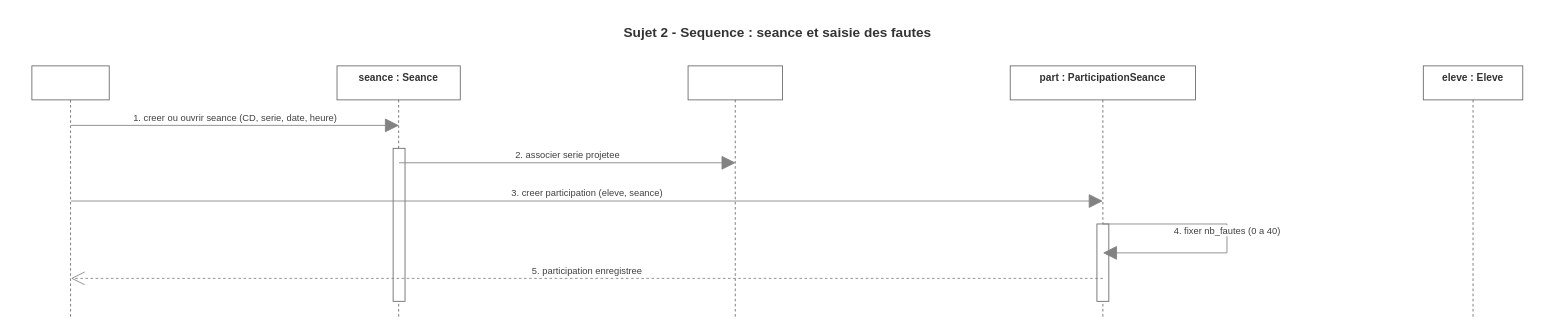
Some shapes in this 1554 by 333 pixel diagram are drawn without their labels. The shapes that lost their labels are listed below. From the top down, each one's box as (x1, y1, x2, y2) in pixels, then its label:
(31, 65, 109, 318): Directeur
(687, 65, 782, 318): serie : Serie
